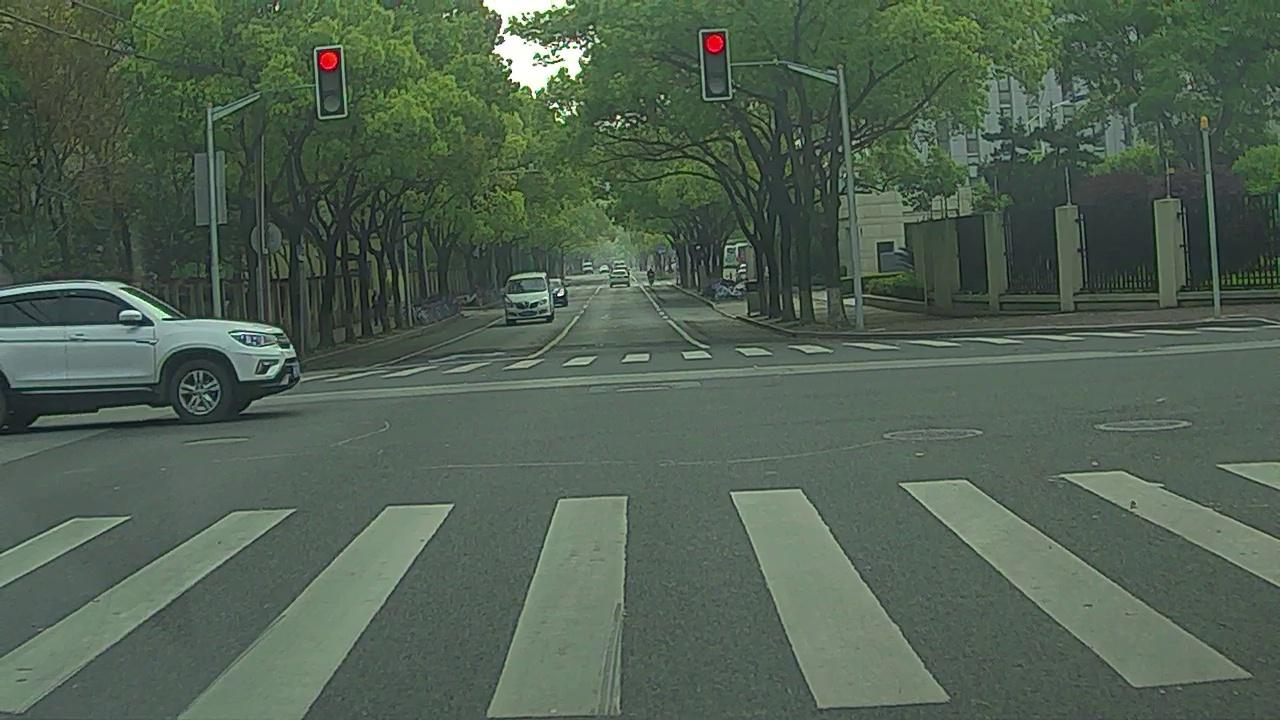traffic_light: (316, 48, 346, 115), (703, 32, 729, 95)
